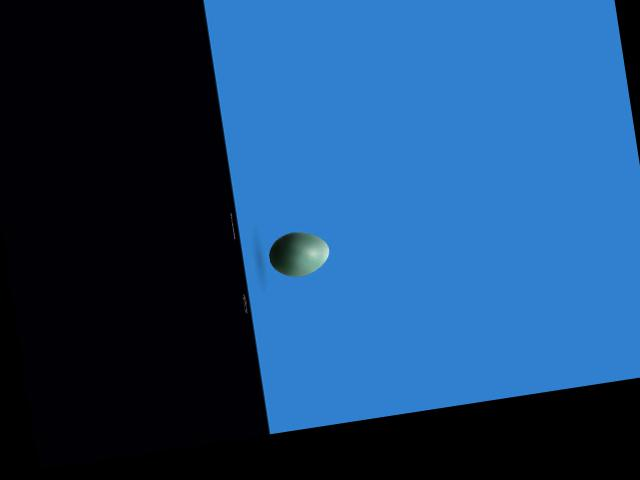egg: (266, 226, 332, 279)
